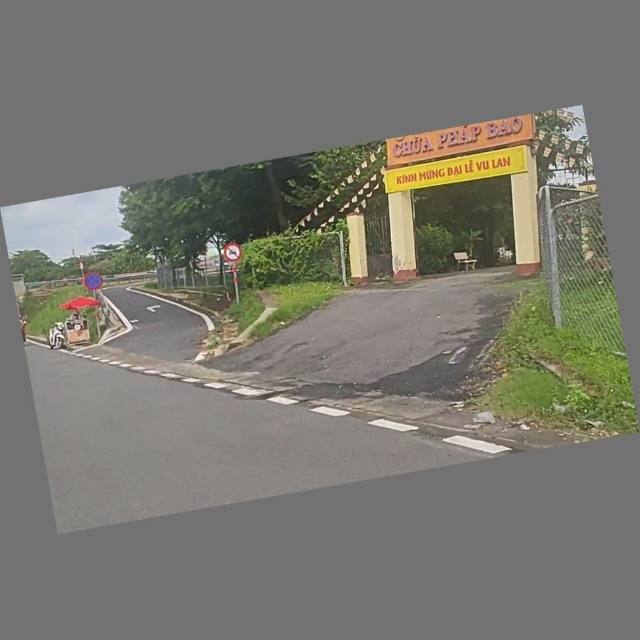P.103a: (222, 242, 245, 265)
P.130: (82, 271, 104, 293)
